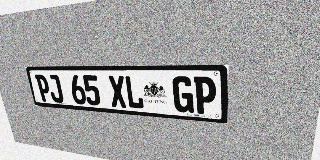5: (82, 75, 101, 106)
6: (68, 75, 87, 105)
G: (172, 76, 194, 113)
J: (46, 75, 64, 103)
L: (124, 76, 144, 109)
P: (194, 76, 216, 115), (35, 75, 52, 102)
X: (107, 75, 127, 108)
